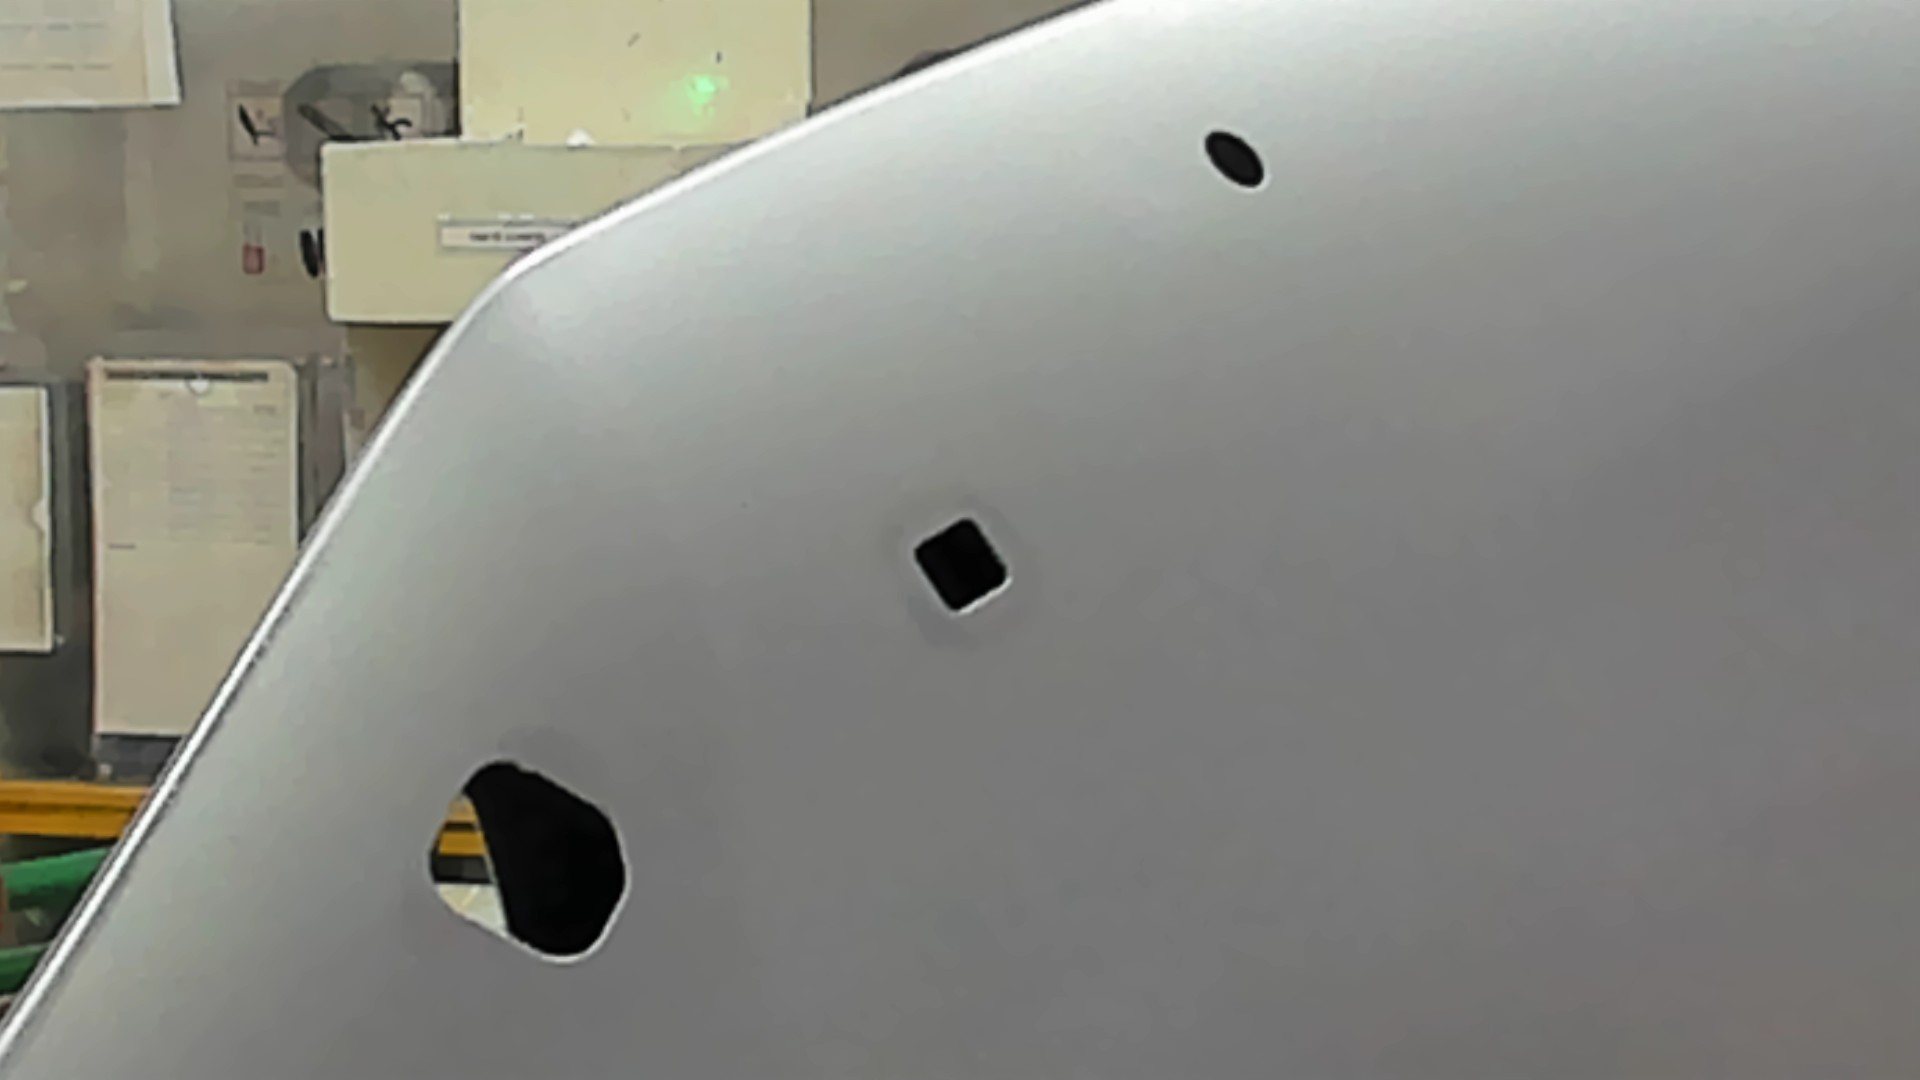chico: (1192, 117, 1280, 206)
grande: (410, 746, 657, 981)
mediano: (891, 491, 1038, 638)
